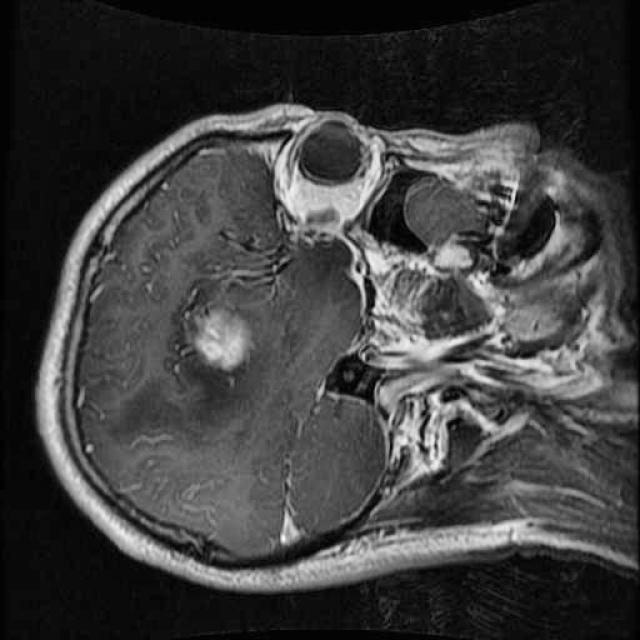Tumor: (180, 276, 262, 388)
